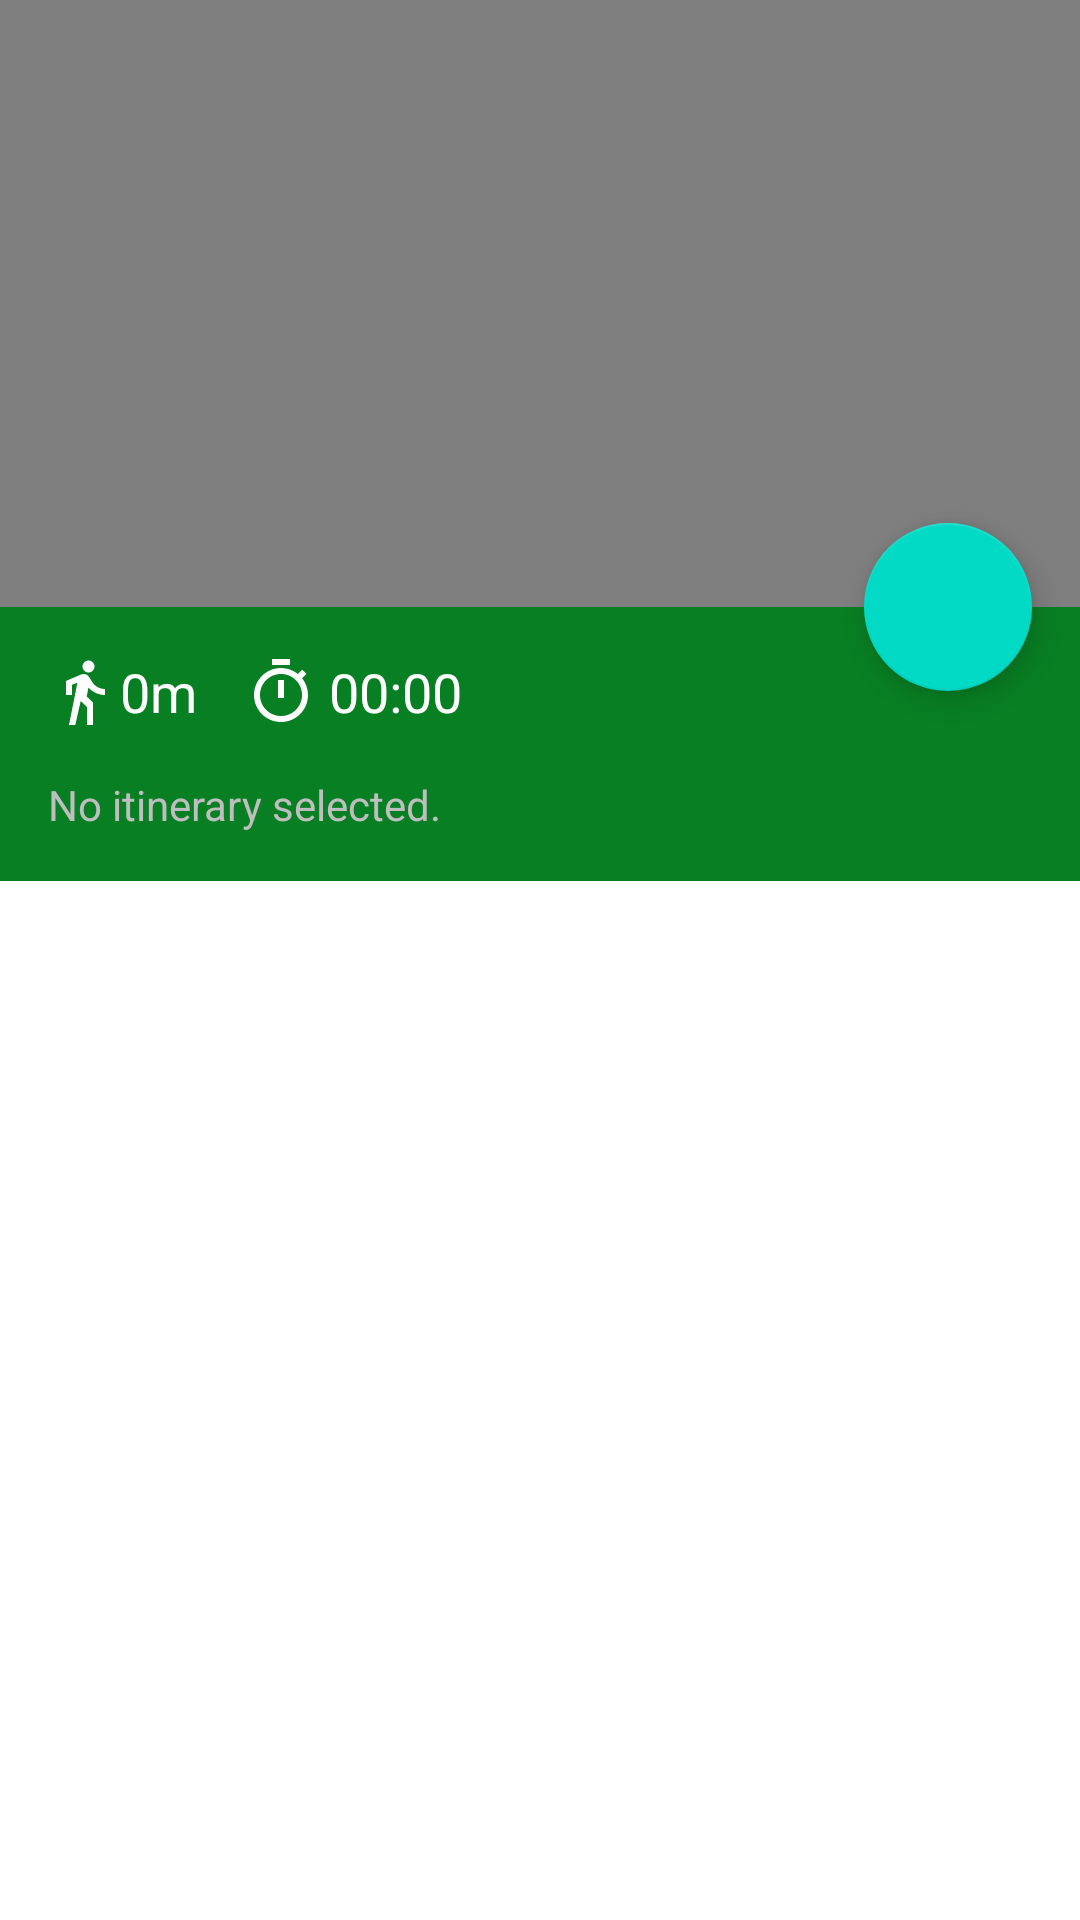

Icon click points for this 1080x1920 phone screenshot, format (x,y):
directions walk: (85,692)
timer: (281,690)
